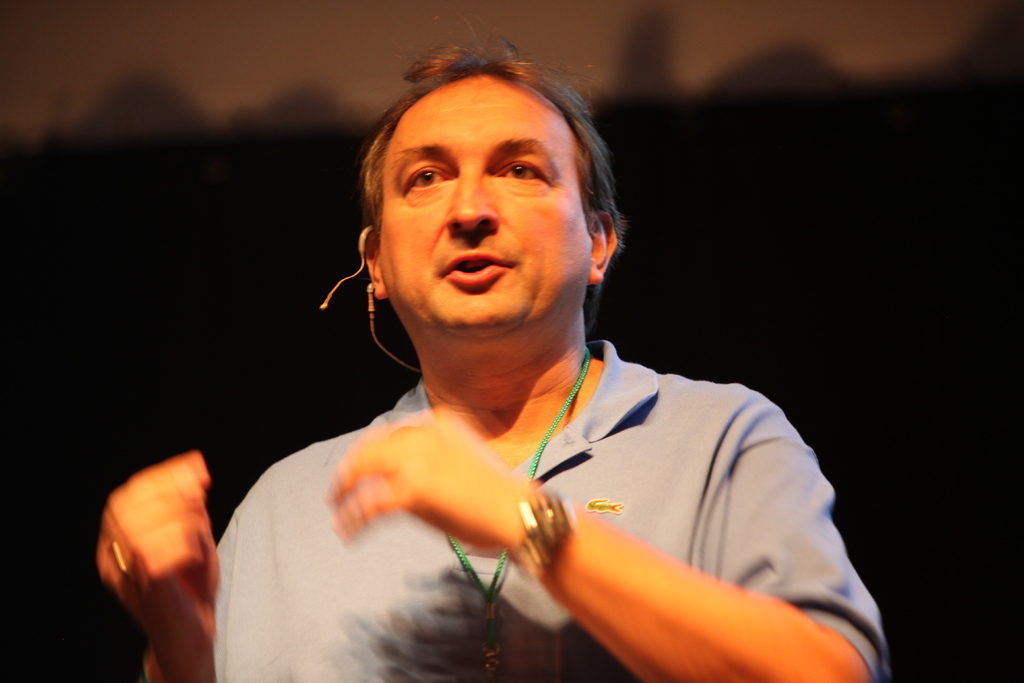Human_hand: (321, 402, 544, 550), (100, 436, 223, 666)
